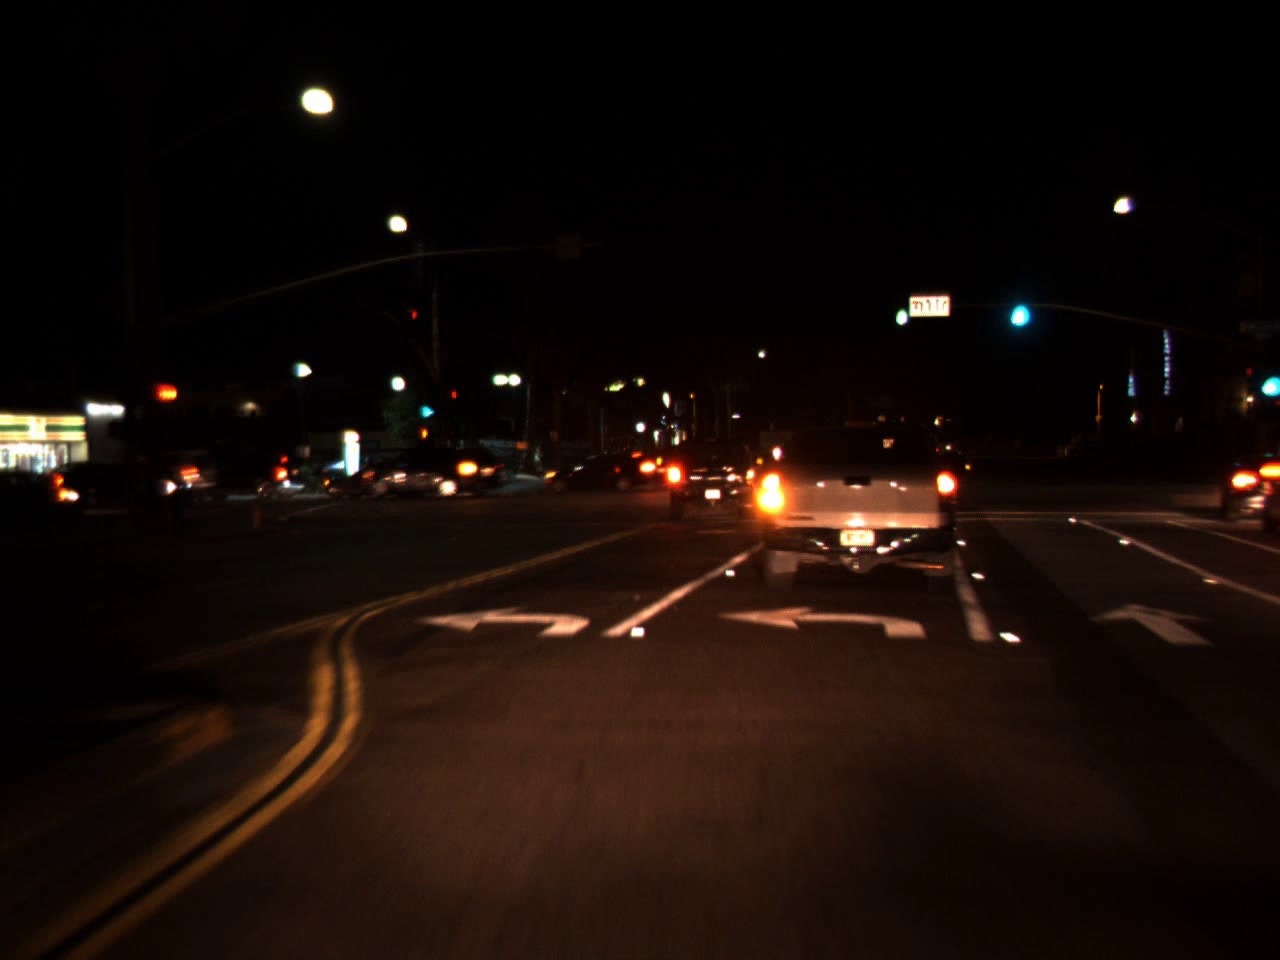go: (1003, 276, 1033, 336), (1256, 352, 1280, 403), (416, 388, 437, 424), (893, 294, 909, 330)
